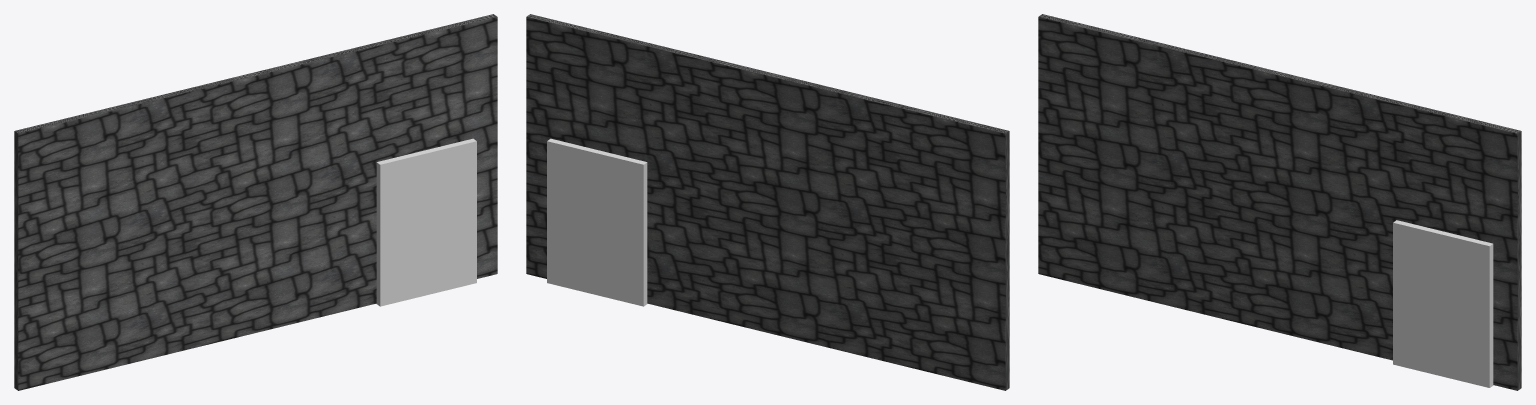
Rendered from MurGear.fbx.
3 renders of one model, left to right at view 1: azimuth 30°, elevation 25°; view 2: azimuth 150°, elevation 25°; view 3: azimuth 330°, elevation 25°, orthographic.
Visible parts, largest first — view 1: Cube.002, Cube.003; view 2: Cube.002, Cube.003; view 3: Cube.002, Cube.003.
Boxes of the visible parts, <box> form: Cube.002: <box>14,14,497,390</box>; Cube.003: <box>376,138,476,306</box>; Cube.002: <box>526,14,1009,390</box>; Cube.003: <box>547,138,647,306</box>; Cube.002: <box>1038,14,1521,390</box>; Cube.003: <box>1393,220,1493,387</box>.
Size of the model in its own units: 4993 by 2565 by 200.
